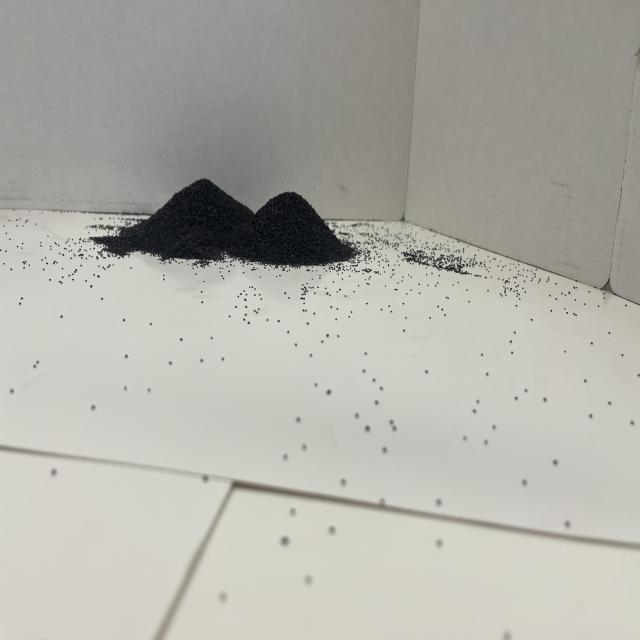Poppy Seeds: (107, 143, 366, 312)
